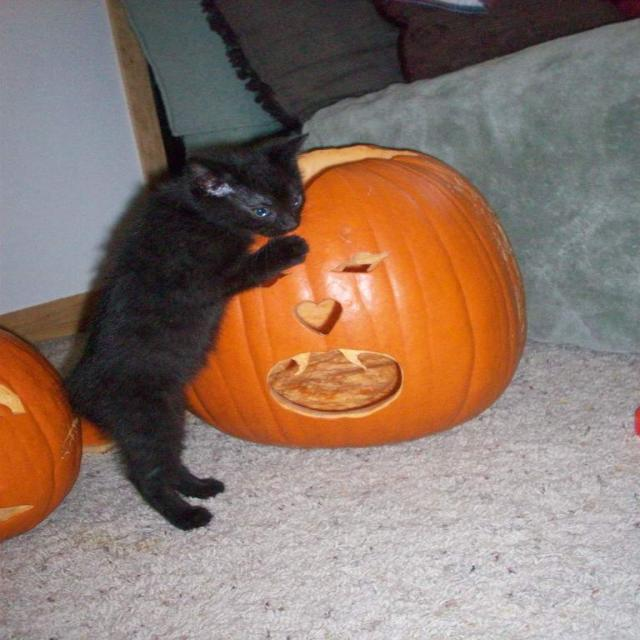Cat: (61, 132, 316, 530)
